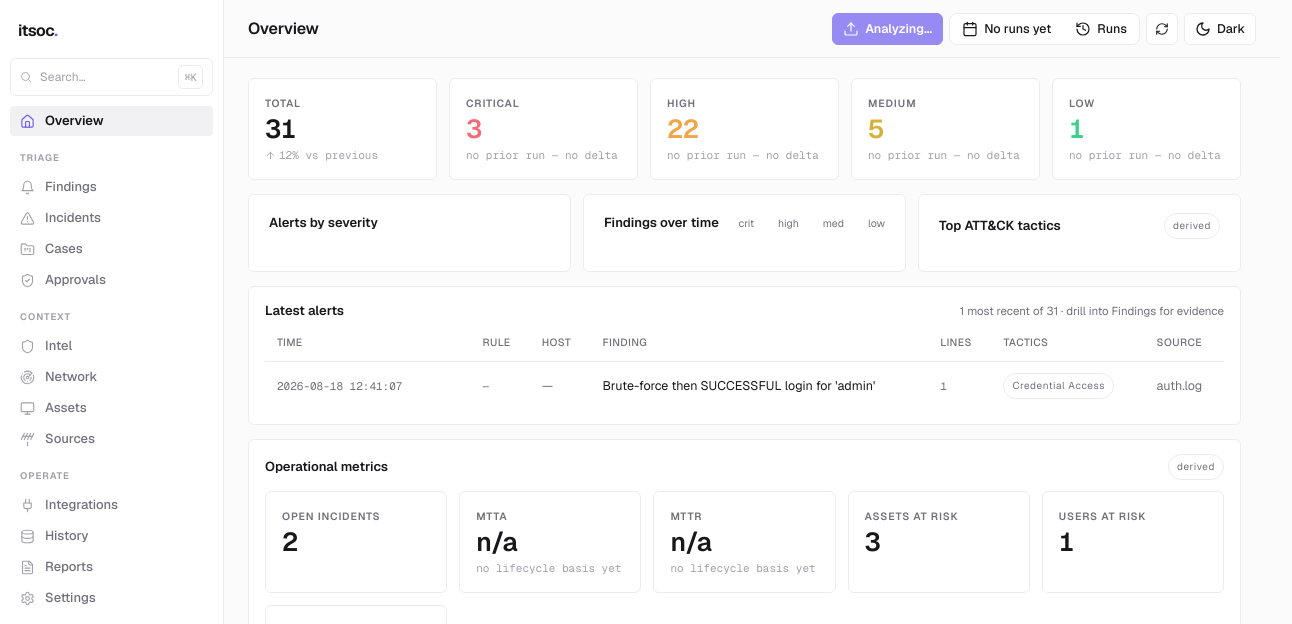
Test case: Cases page (CRUD) › exposes Cases in the main nav from Overview
Click the link "Cases": x=51, y=248 [20,240,83,257]
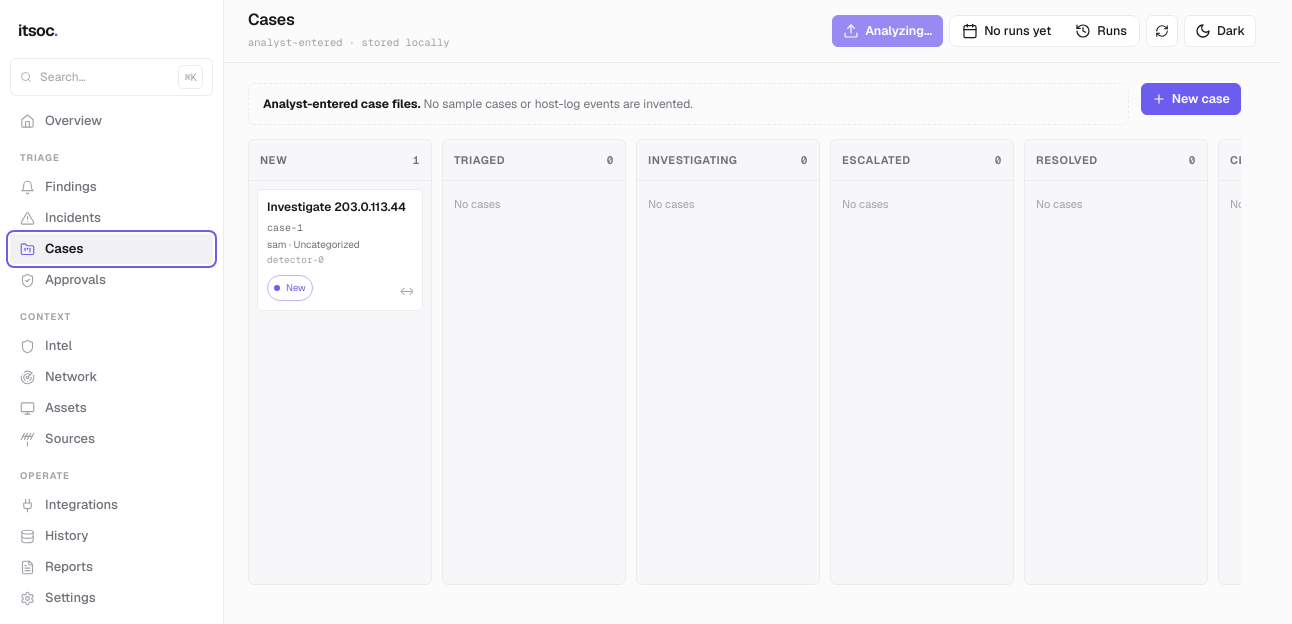
Check: the button "Investigate 203.0.113.44" is shown, box [267,199,413,215]
Check: the text "case-1" is shown, box [267,221,303,234]
